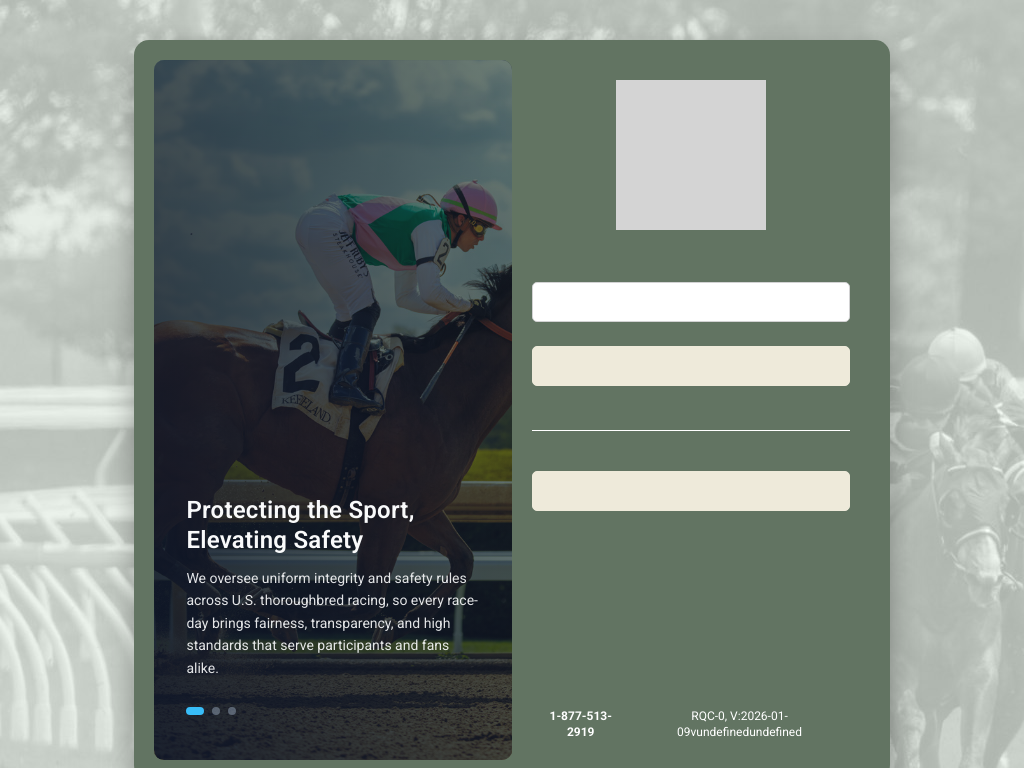
Test: RequestAccess › shows error if username is incorrect
Type "wronguser" into the field. click: [691, 302]
box: 532,282 -> 850,322
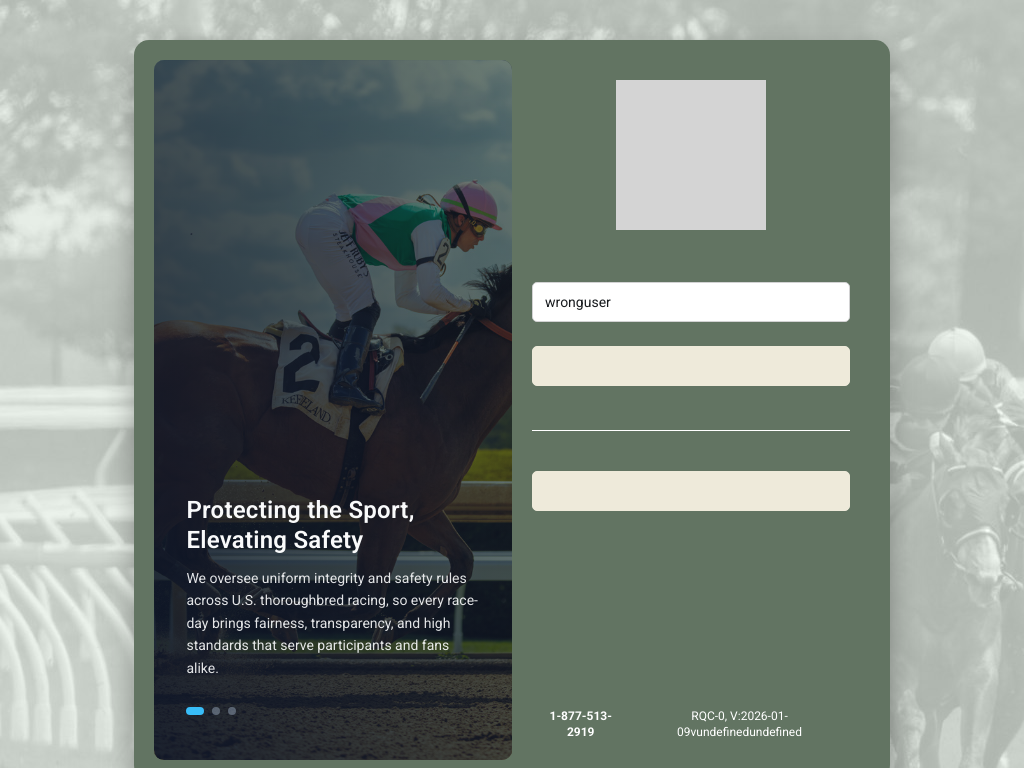
Submit the form with test id "request-access-form", box 532,250 -> 850,410
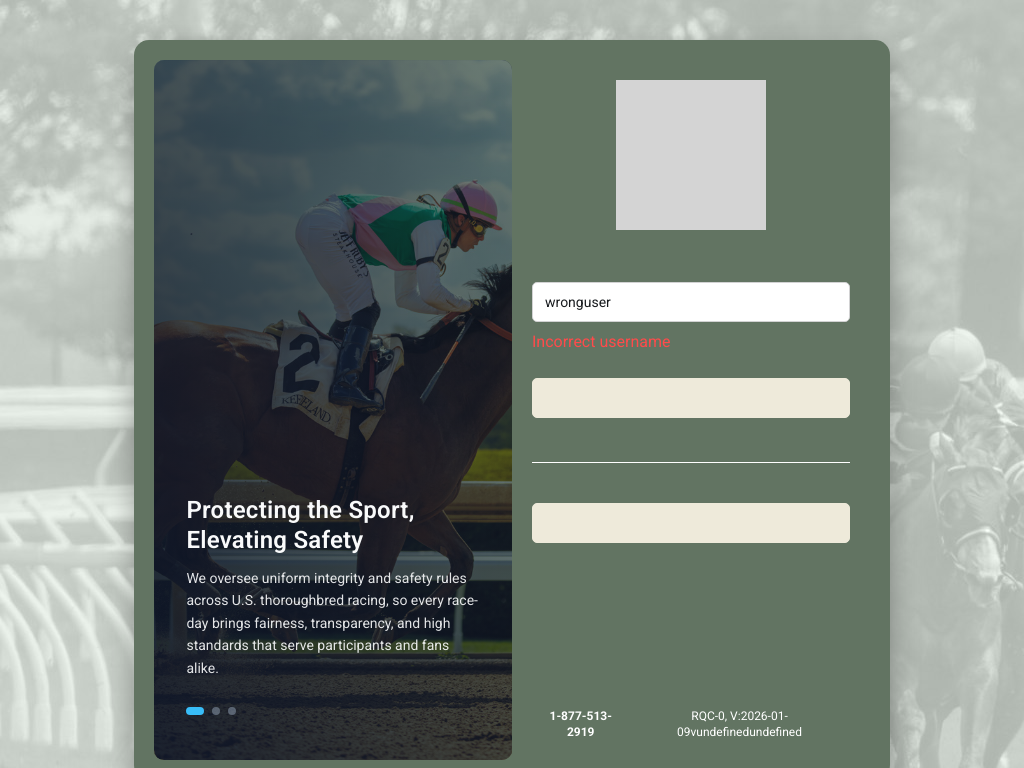
Result: the text "Incorrect username" is shown at 532,332 -> 670,351
